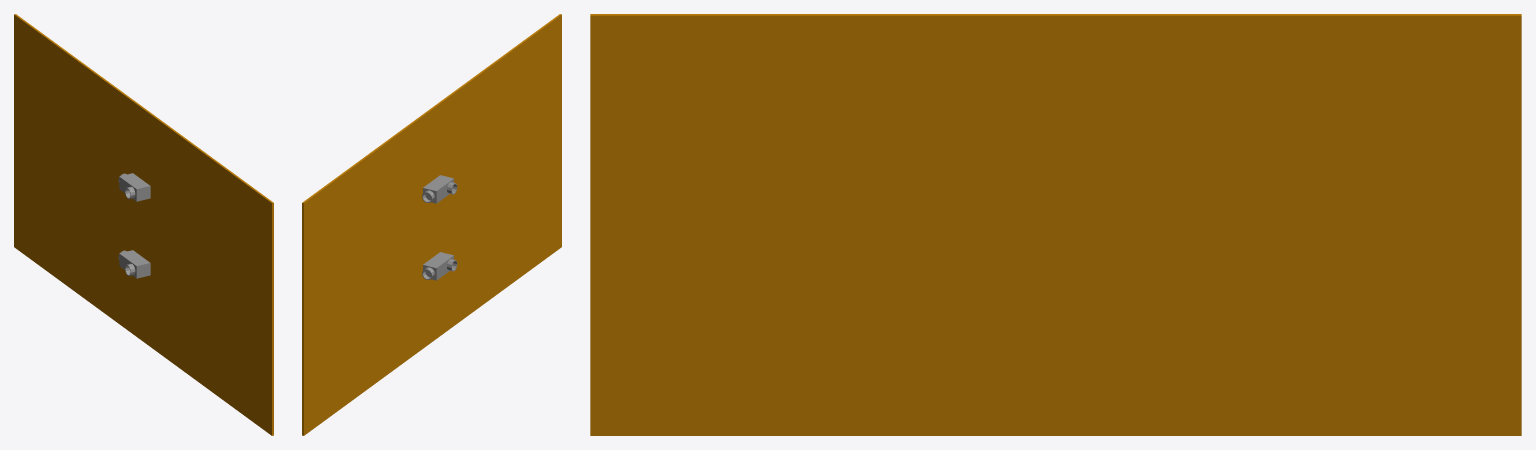
File: nil_link_mesh.dae
3 renders of one model, left to right at view 1: azimuth 30°, elevation 25°; view 2: azimuth 150°, elevation 25°; view 3: azimuth 270°, elevation 25°, orthographic. The views are drawn at different scales.
Visible parts, largest first — view 1: nil_link (×3); view 2: nil_link (×3); view 3: nil_link.
Part boxes in pixels (bbox=[...]): nil_link (×3): bbox=[14, 14, 273, 435]; nil_link (×3): bbox=[302, 14, 561, 435]; nil_link: bbox=[590, 14, 1521, 435].
Bounding box in the file's own units: 0.11 × 1.21 × 2.43.
